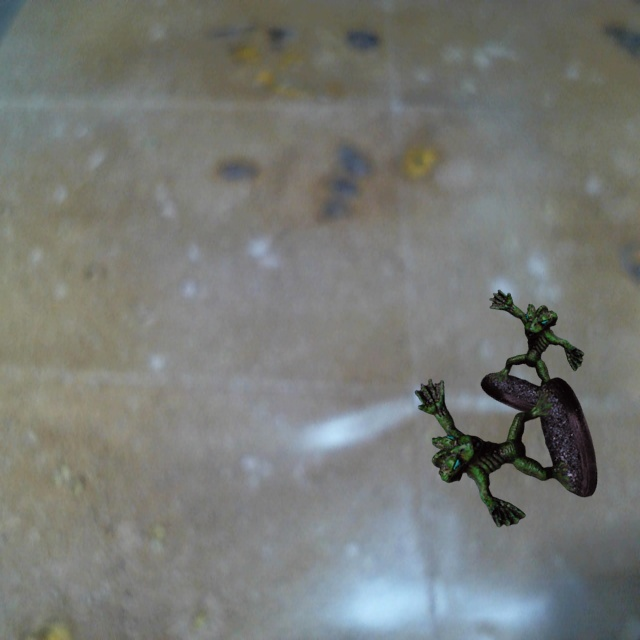pieza_juego: (415, 377, 597, 526), (481, 290, 583, 416)
